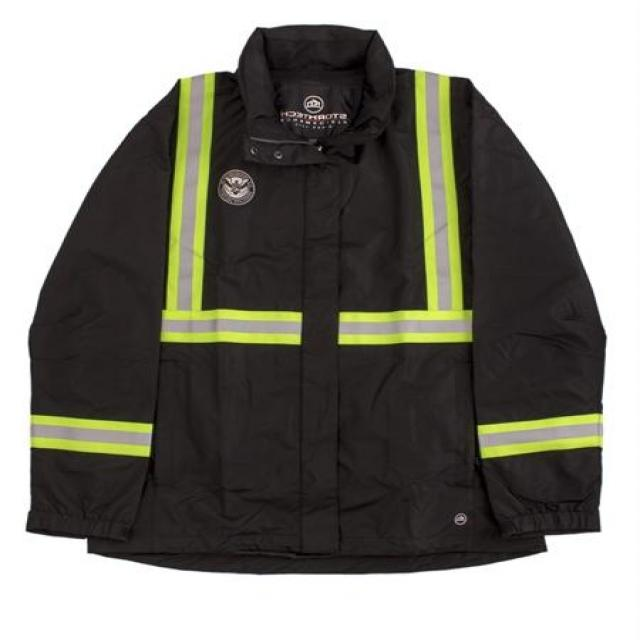Reflective-Jacket: (0, 41, 614, 603)
